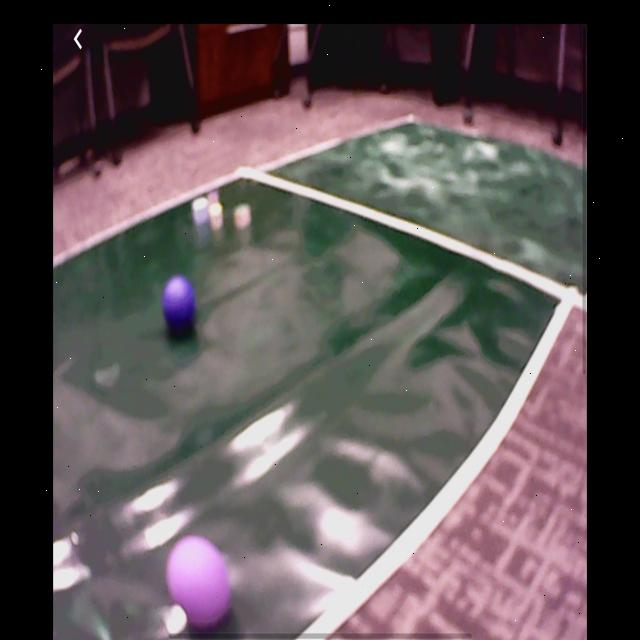ball: (167, 535, 232, 630), (163, 276, 197, 332)
